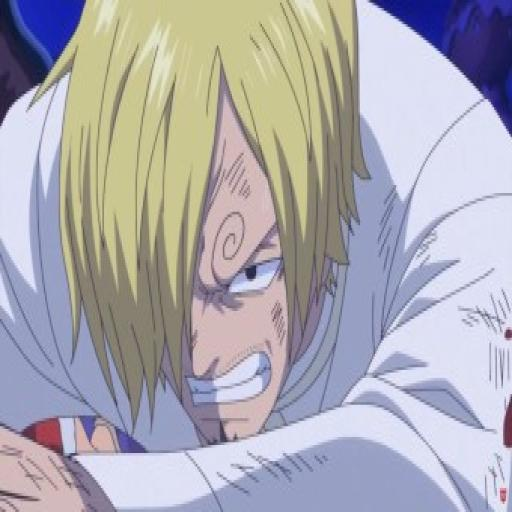sanji: (54, 0, 369, 444)
